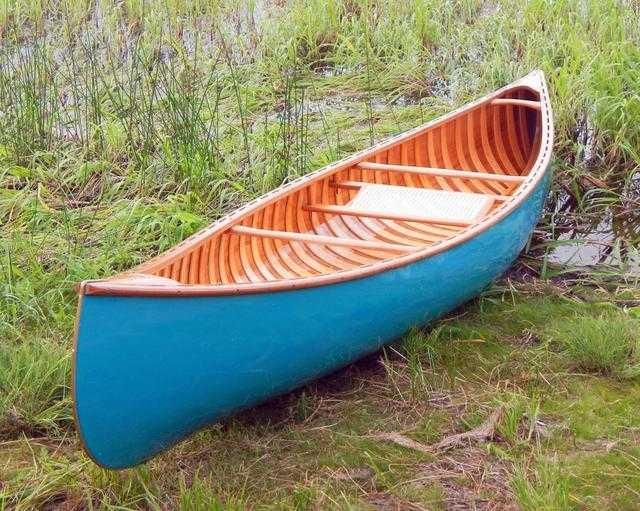kayak: (74, 71, 552, 472)
